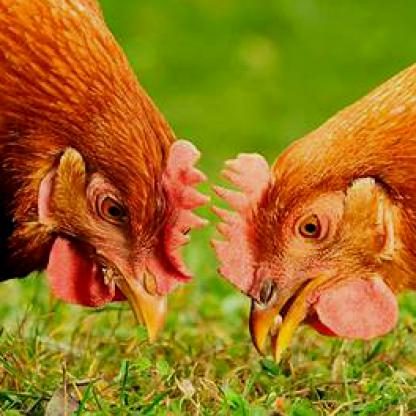chicken: (2, 0, 211, 348), (209, 41, 415, 367)
